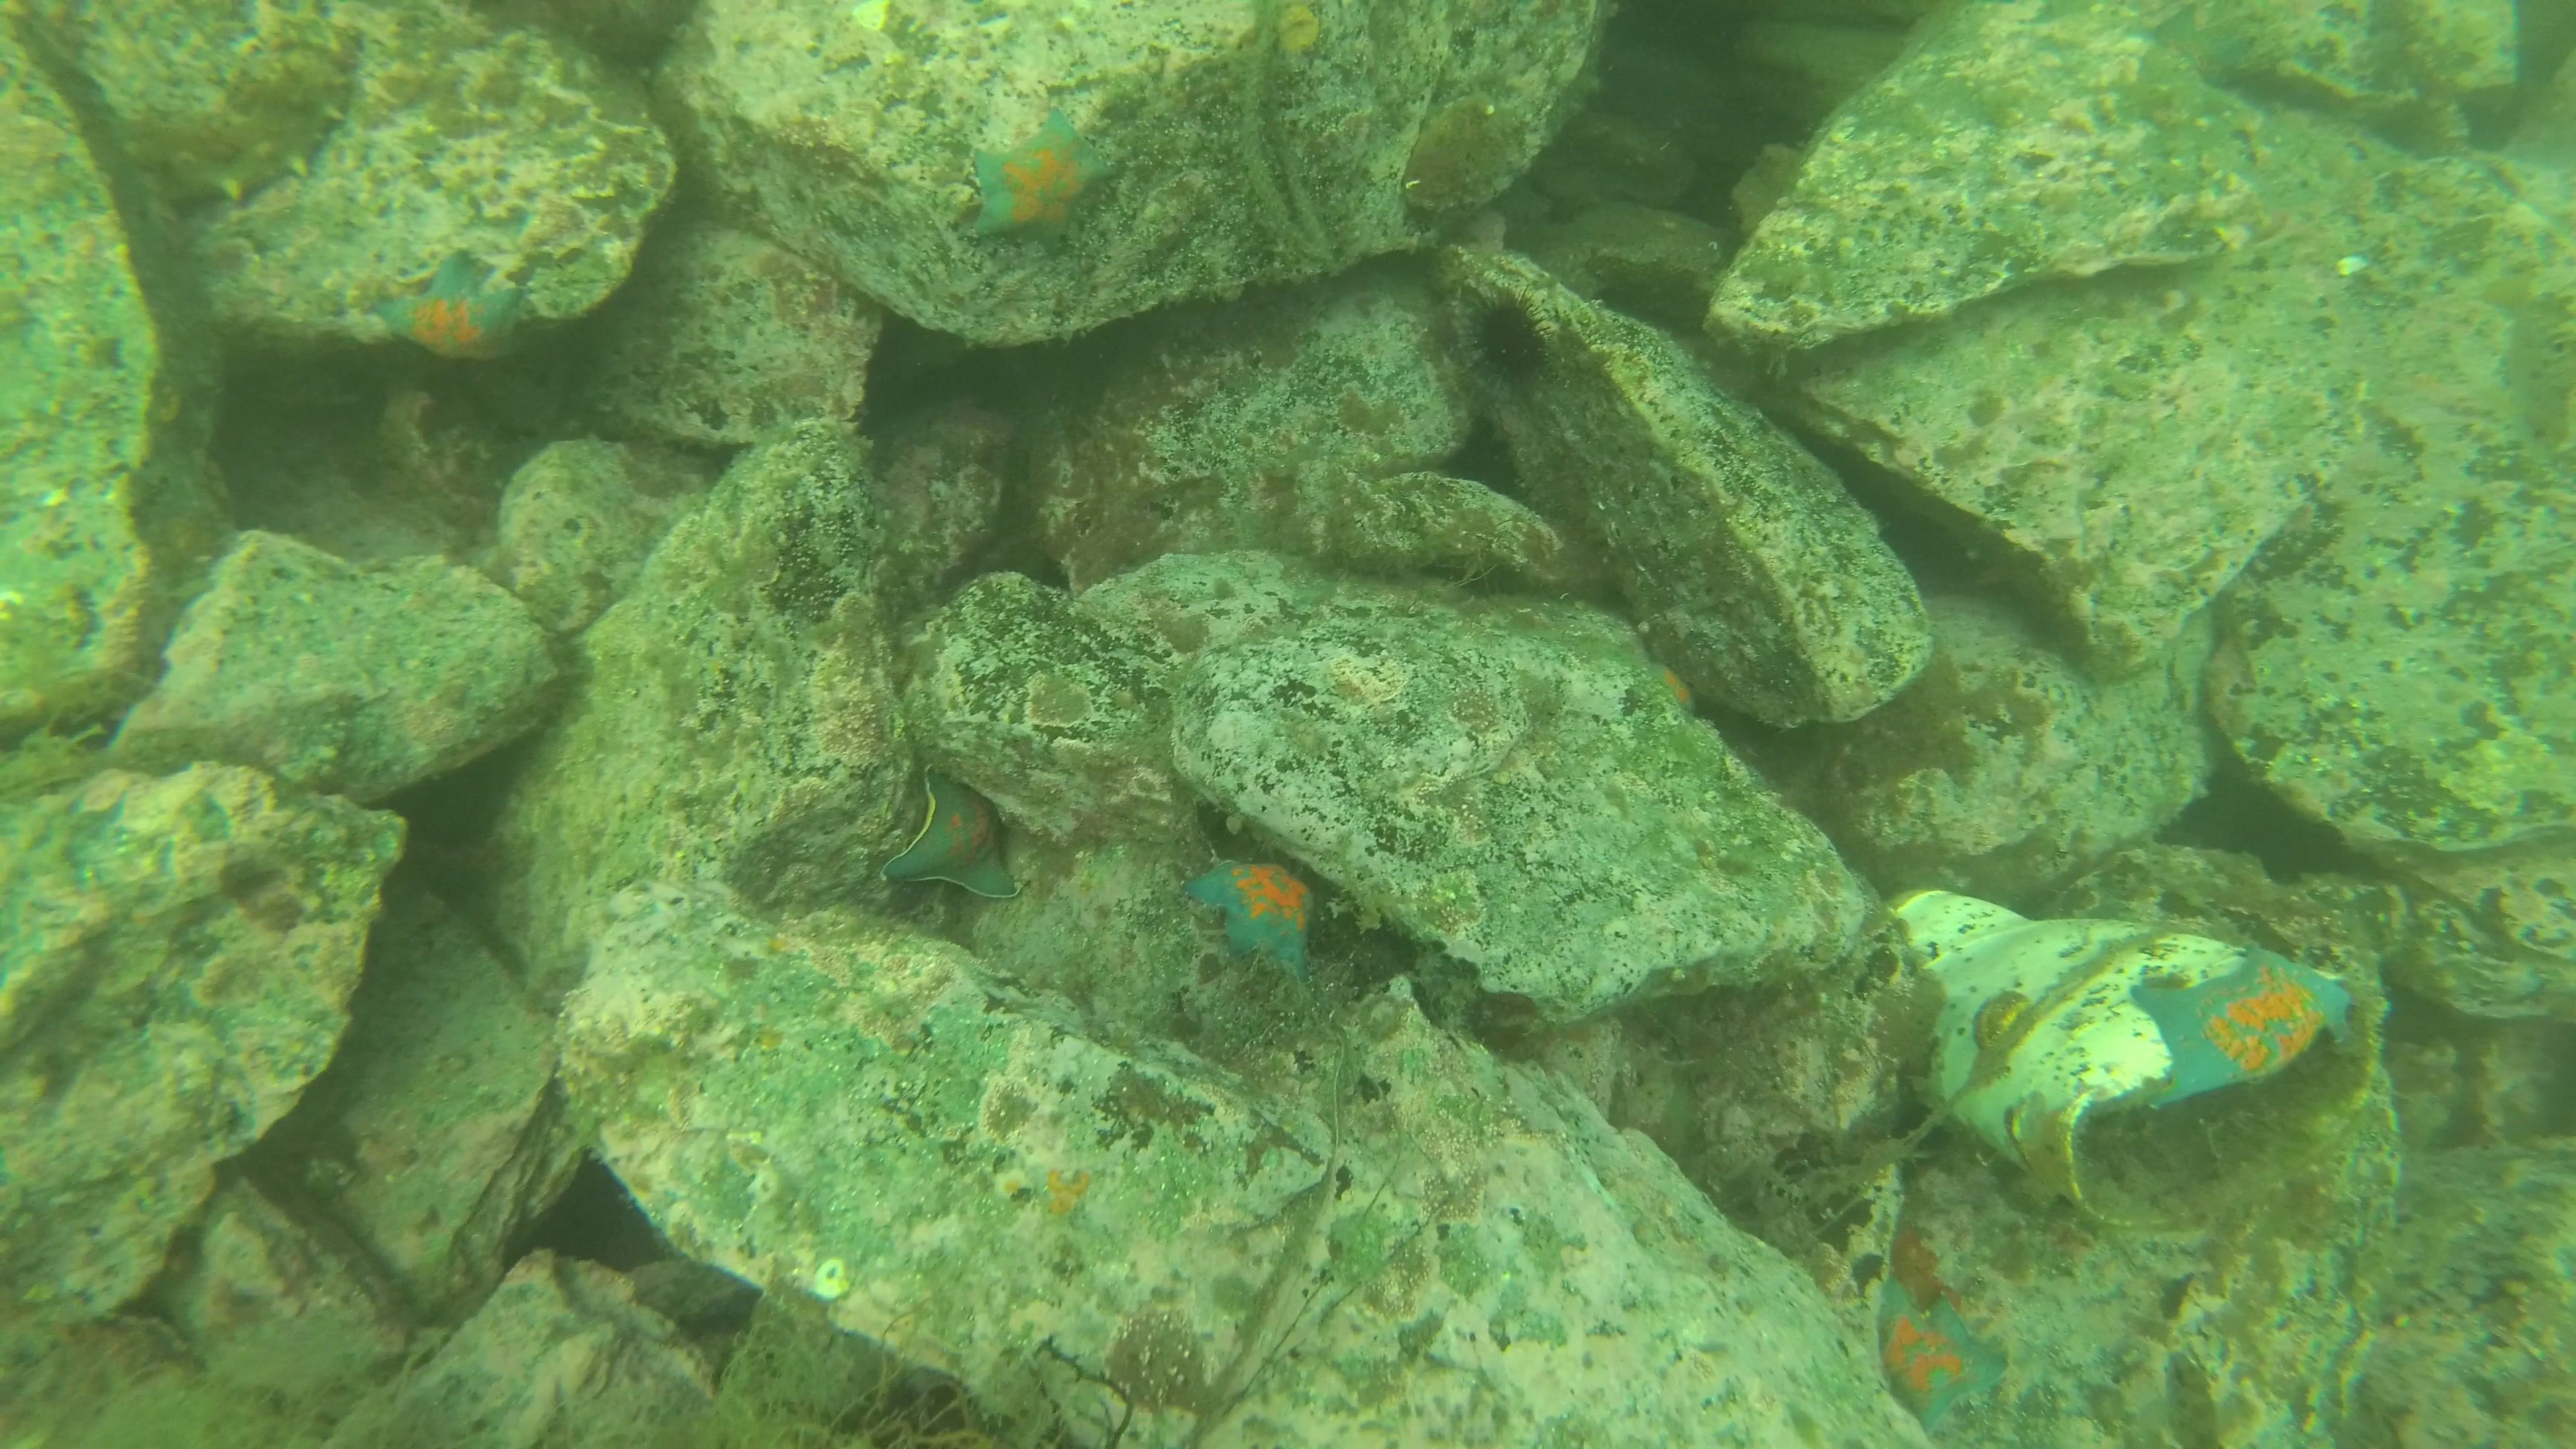echinus: (1460, 283, 1557, 396)
holothurian: (119, 28, 356, 223)
starfish: (2130, 947, 2351, 1111), (970, 106, 1118, 251), (1874, 1281, 2010, 1430), (881, 763, 1030, 897), (373, 249, 527, 361), (1182, 860, 1315, 985), (1645, 662, 1697, 718)
